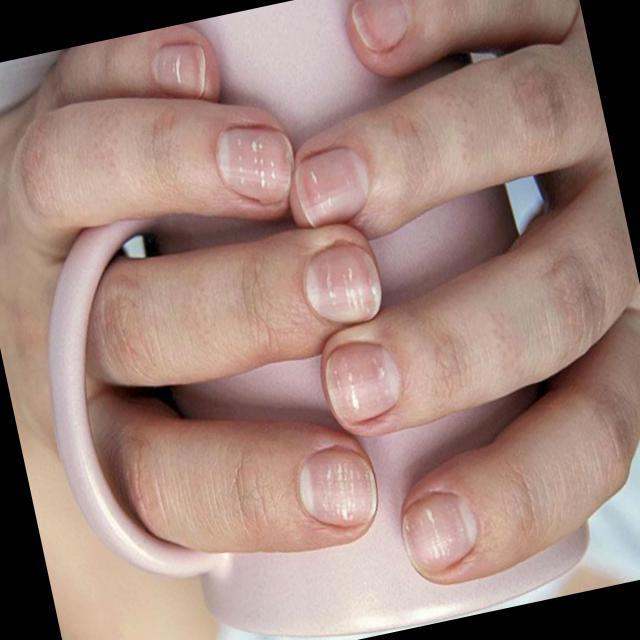Nail: (296, 446, 376, 525), (301, 241, 379, 322), (400, 491, 475, 574), (215, 123, 291, 202), (324, 343, 399, 423), (292, 145, 366, 226), (150, 43, 204, 96), (349, 0, 406, 48)
